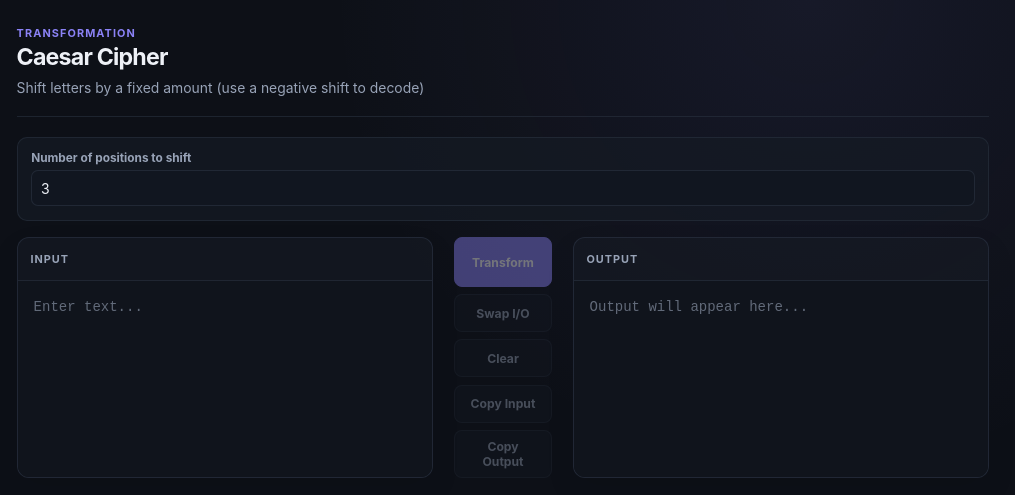
Test: GenericTransformationPage › parameters › renders a number input for a numeric parameter and applies its default
Expected: the number field labelled "Number of positions to shift" holds "3", [31,170,975,206]
In the text box with id "input-textarea": x=225, y=379 [18,281,432,477], type "abc"
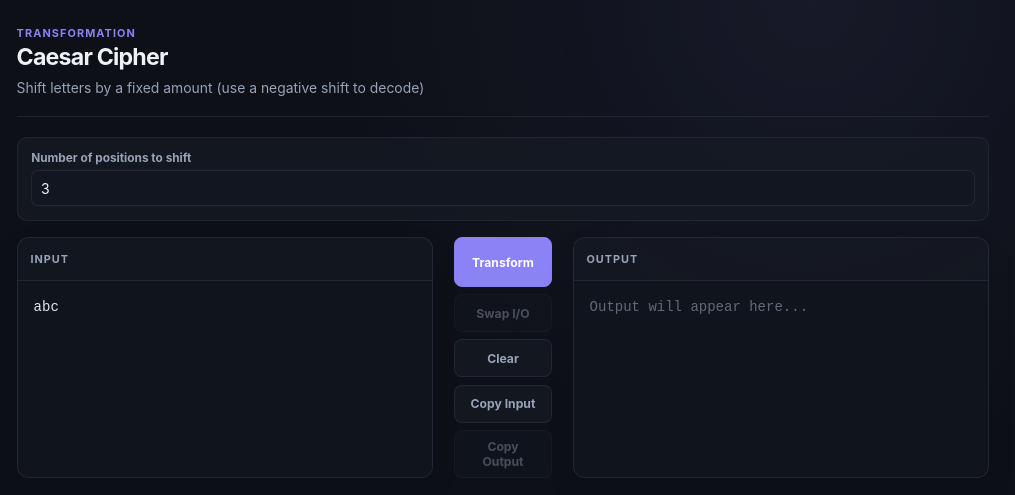
Click the button with class "transform-button": x=503, y=262 [454,237,552,287]
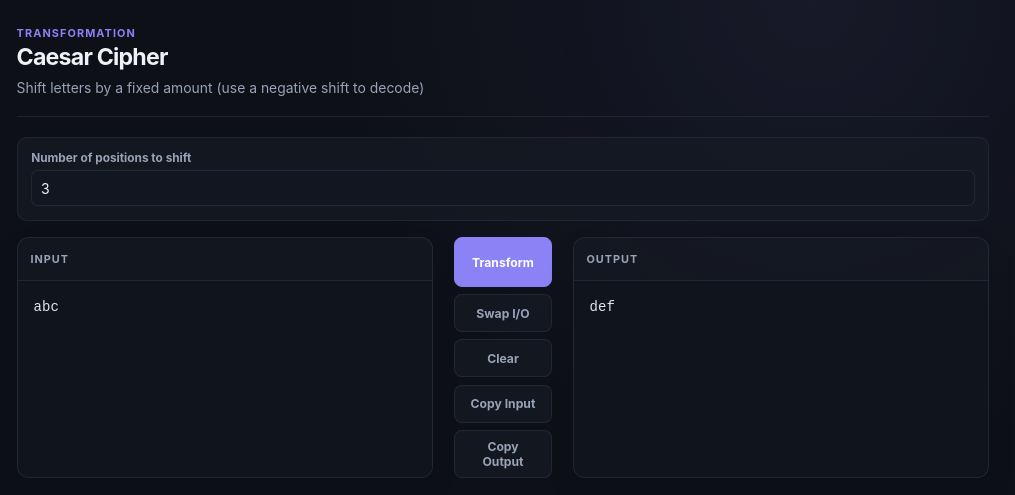
Expected: the text box with id "output-textarea" holds "def", [574,281,988,477]
